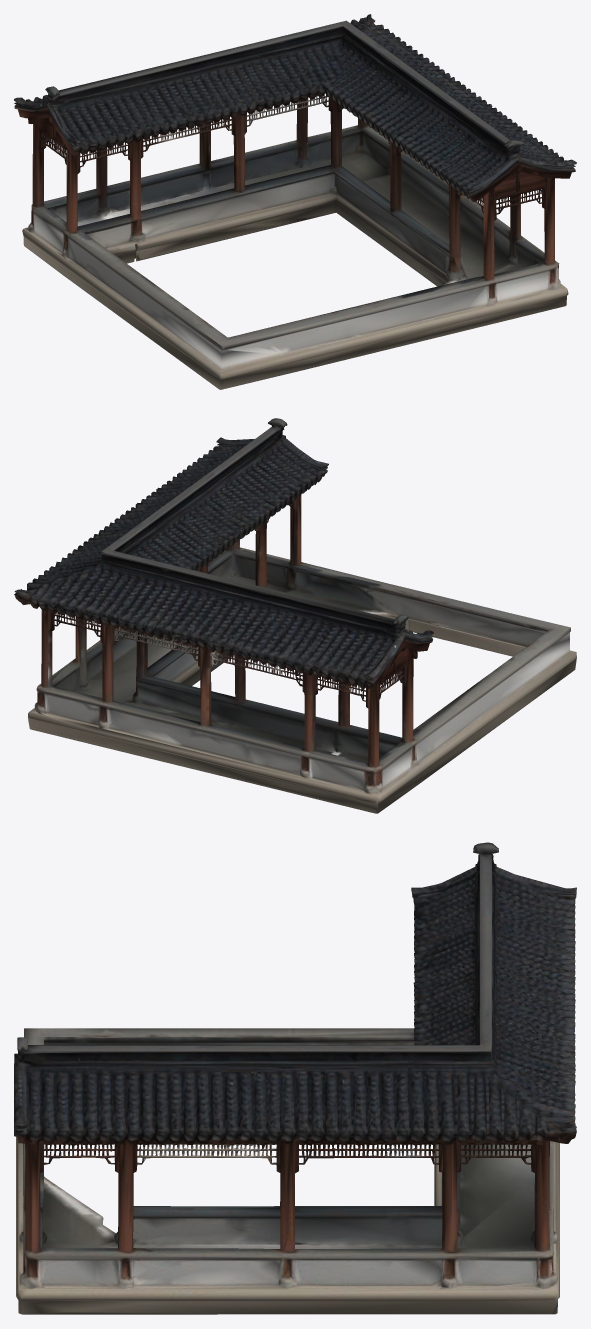
File: corridorCorner.glb
The picture shows the model from 3 angles, top to bottom: view 1: azimuth 30°, elevation 25°; view 2: azimuth 150°, elevation 25°; view 3: azimuth 270°, elevation 25°; orthographic projection. The views are drawn at different scales.
Visible parts, largest first — view 1: node_0; view 2: node_0; view 3: node_0.
Part boxes in pixels (bbox=[...]): node_0: bbox=[14, 14, 576, 389]; node_0: bbox=[14, 418, 576, 813]; node_0: bbox=[14, 842, 576, 1314].
Bounding box in the file's own units: 5.29 × 2.49 × 5.28.
Materials: 1 (1 with a texture image).
